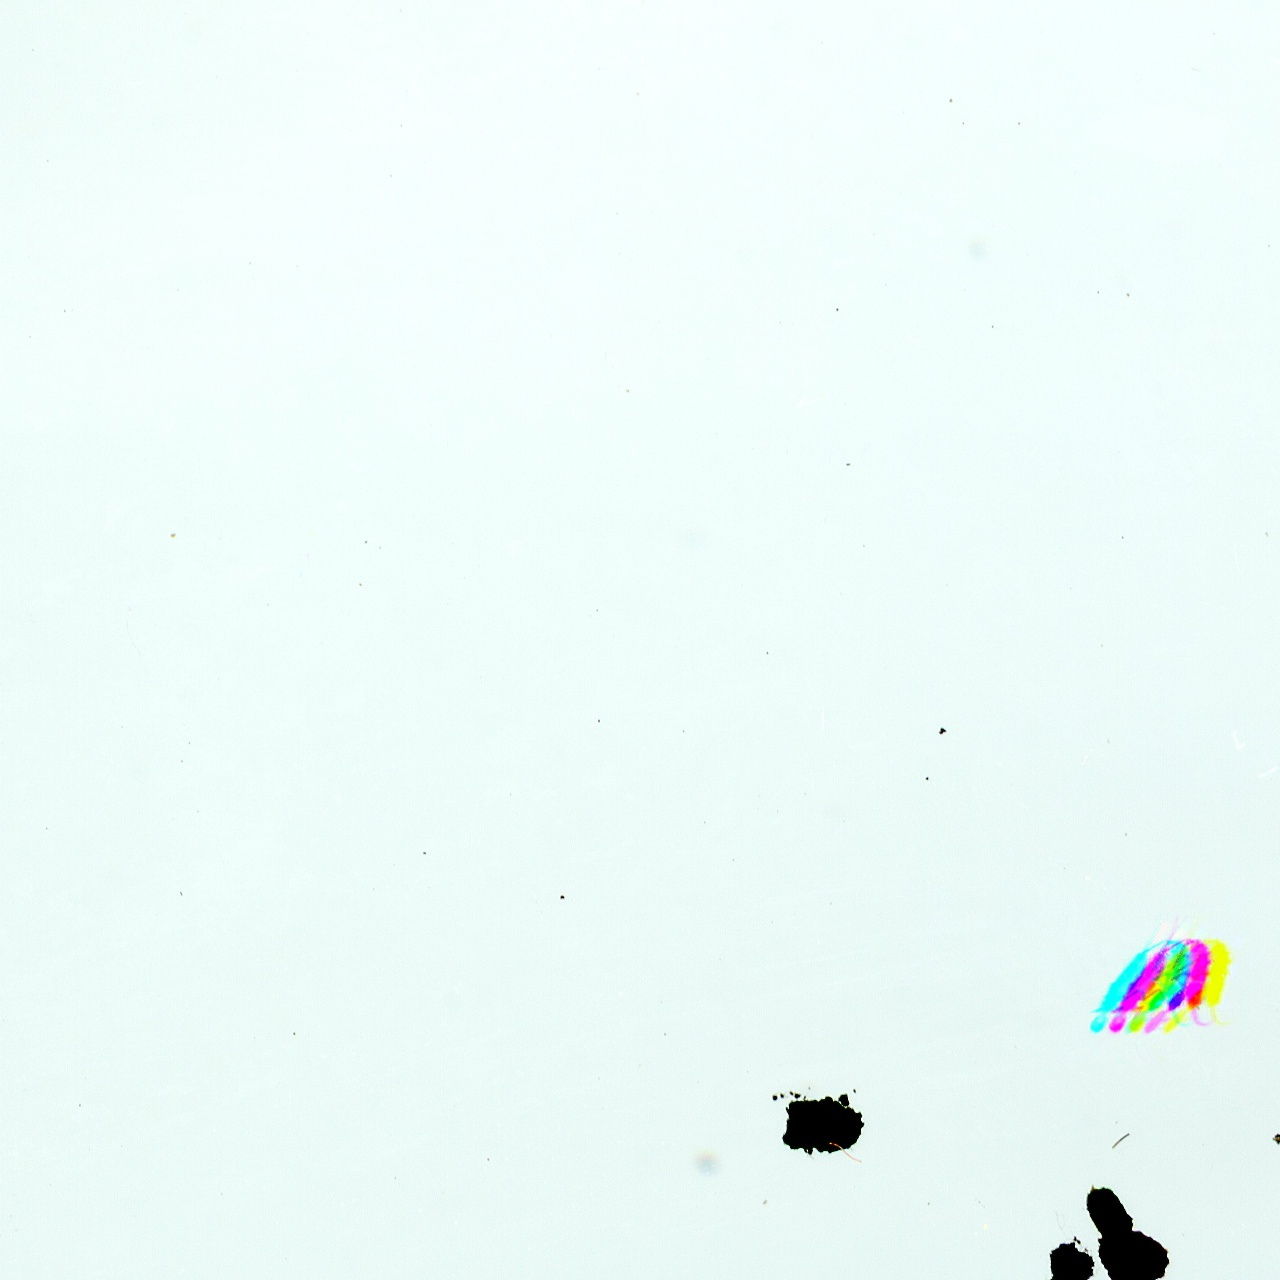arthropod: (1105, 940, 1167, 1035), (1172, 926, 1219, 1032)
